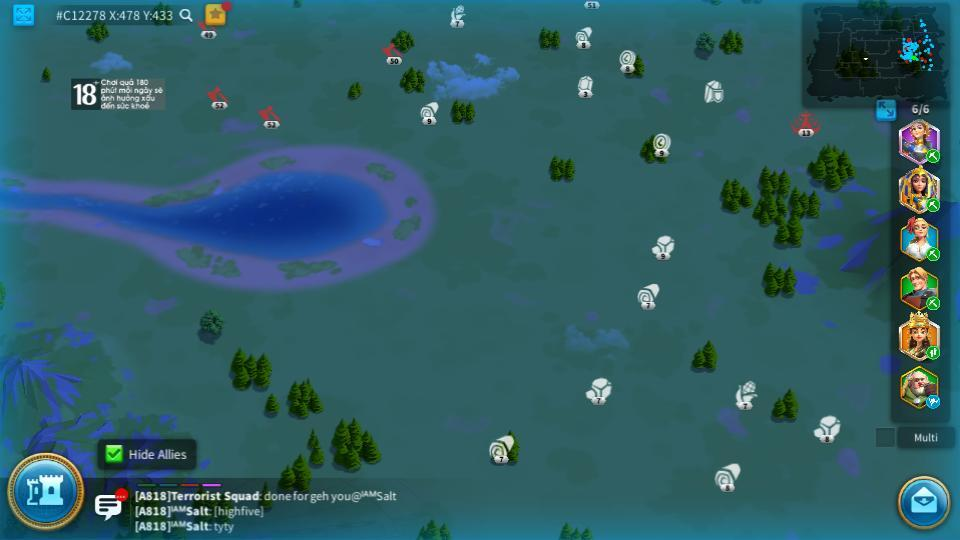gem-z-out: (575, 75, 597, 97)
march_farming: (925, 197, 941, 212), (925, 149, 941, 162)
march_idle: (925, 396, 942, 408)
march_marching: (925, 347, 941, 359), (925, 297, 942, 308)
